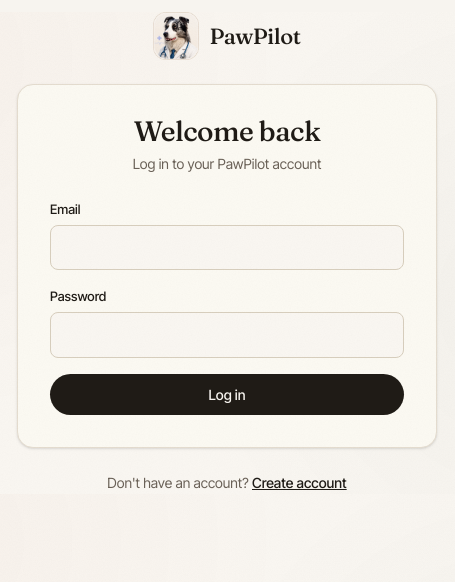
Test: LoginPage › shows network error copy when the request fails
In the field labelled "Email": (227,248) [50,225,404,270], type "a@b.co"
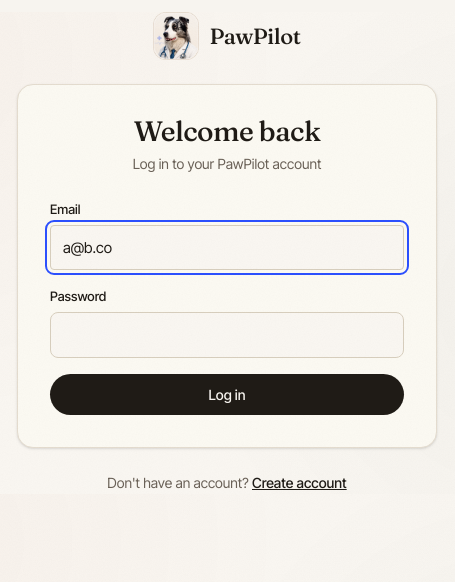
In the password field labelled "Password": (227,335) [50,312,404,358], type "password"
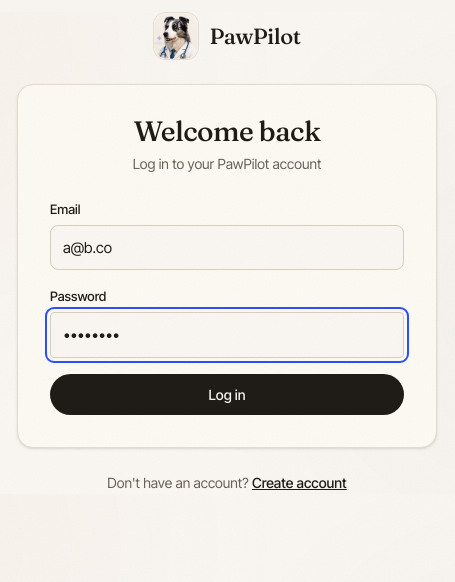
Click the button "Log in": (227,395) [50,374,404,415]
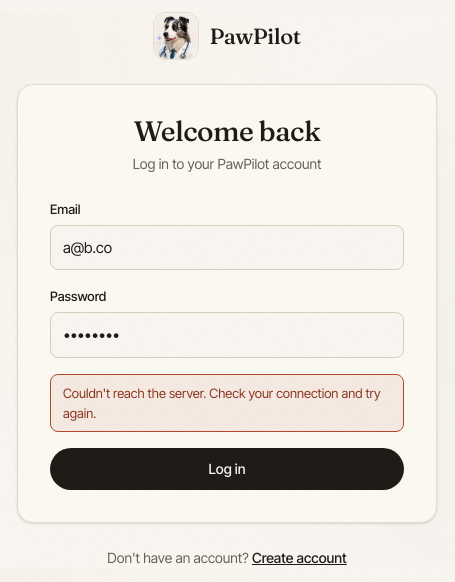
Check: the text "Couldn't reach the server. Check your connection and try again." is shown, box [50,374,404,432]
